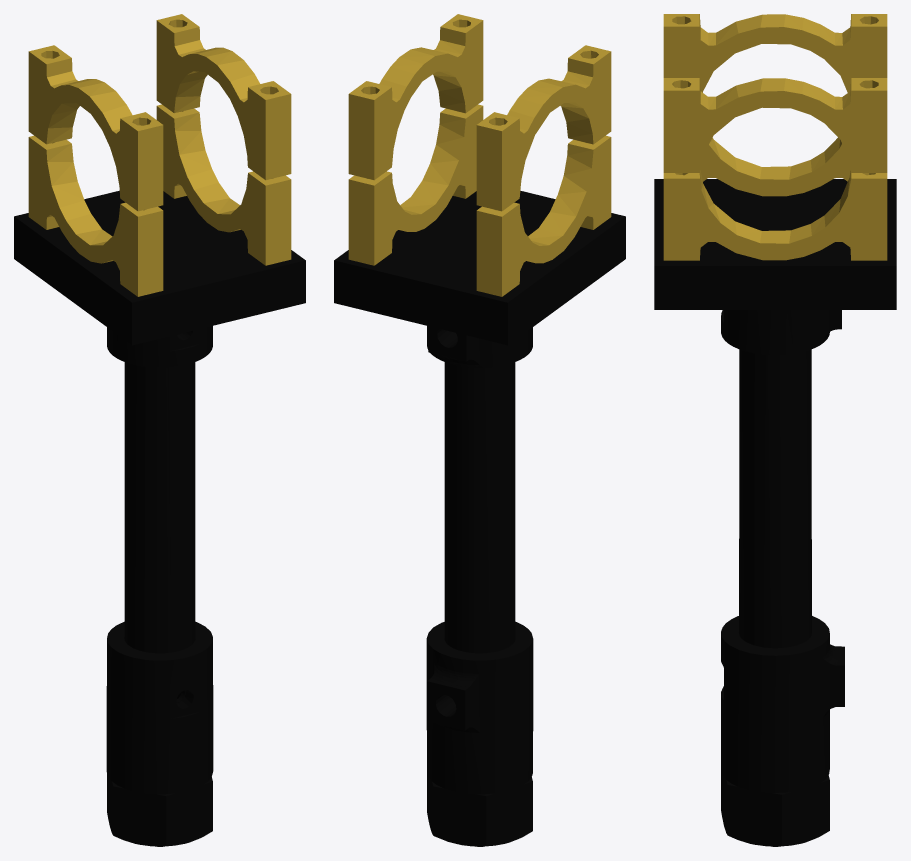
File: end_leg.dae
3 views of the same model, side by side, from view 1: azimuth 30°, elevation 25°; view 2: azimuth 150°, elevation 25°; view 3: azimuth 270°, elevation 25° (orthographic). The views are drawn at different scales.
Parts seen in each view (by area): view 1: end_leg_black, end_leg_gold; view 2: end_leg_black, end_leg_gold; view 3: end_leg_black, end_leg_gold.
Part boxes in pixels (x1=…): end_leg_black: x1=14, y1=190, x2=305, y2=846; end_leg_gold: x1=28, y1=14, x2=291, y2=296; end_leg_black: x1=334, y1=190, x2=625, y2=846; end_leg_gold: x1=348, y1=14, x2=611, y2=296; end_leg_black: x1=654, y1=179, x2=896, y2=846; end_leg_gold: x1=663, y1=14, x2=887, y2=260.
Size of the model in its own units: 0.034 by 0.04 by 0.1443.
